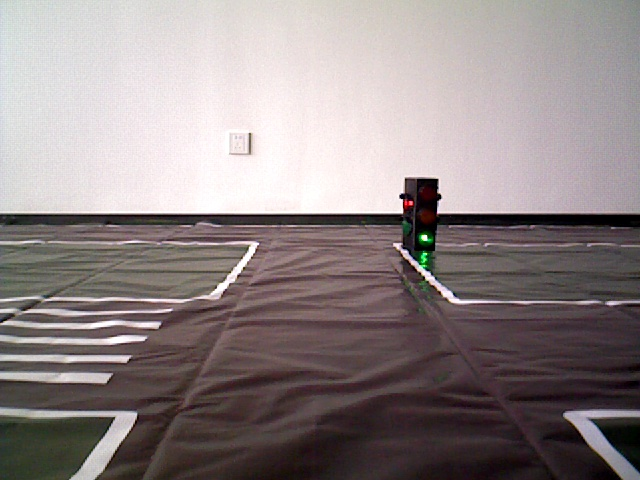green: (401, 175, 434, 247)
